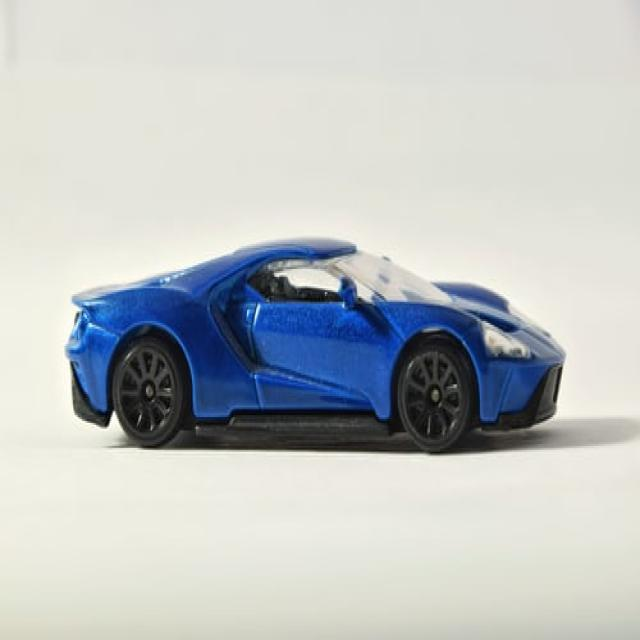Car: (64, 234, 566, 452)
